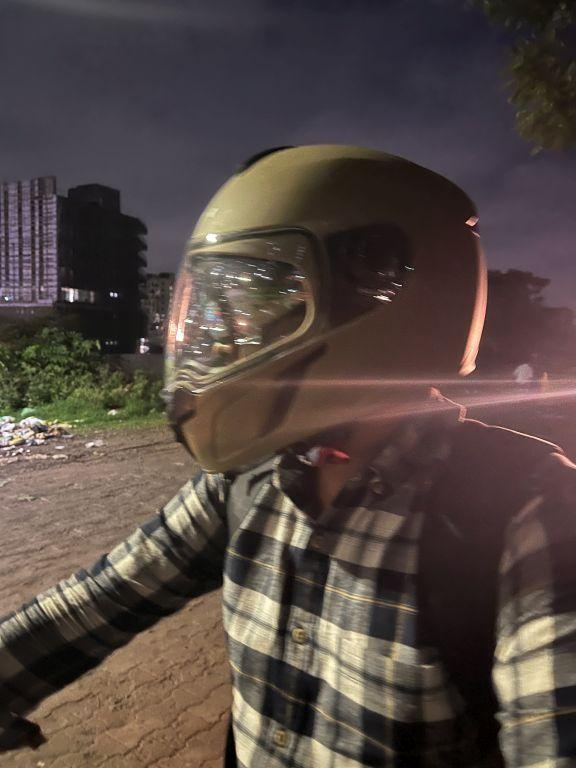helmet: (150, 127, 497, 487)
